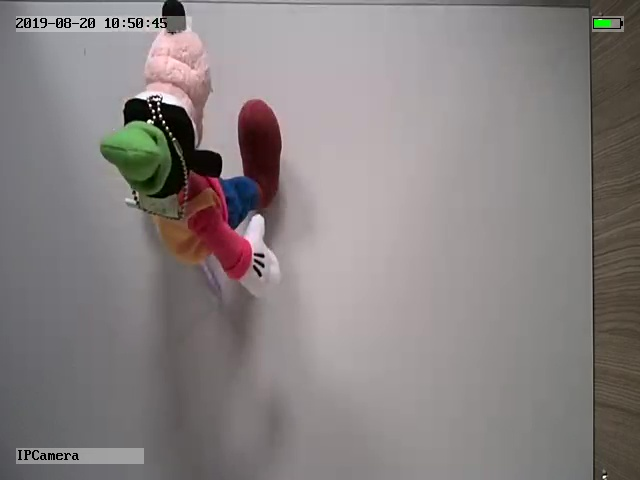goofy: (98, 2, 283, 300)
